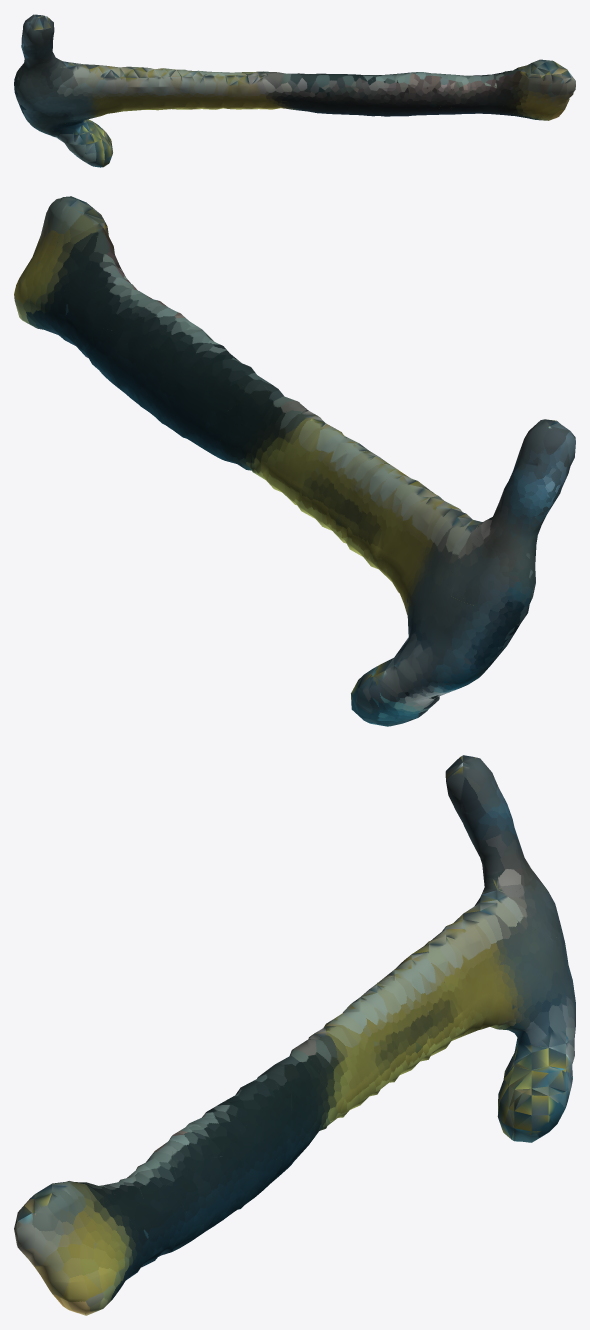
The model's file is clawhammer_new.obj.
The picture shows the model from 3 angles, top to bottom: view 1: azimuth 30°, elevation 25°; view 2: azimuth 150°, elevation 25°; view 3: azimuth 270°, elevation 25°; orthographic projection. The views are drawn at different scales.
Bounding box in the file's own units: 0.292 × 0.1176 × 0.1898.
1 material, 1 textured.
